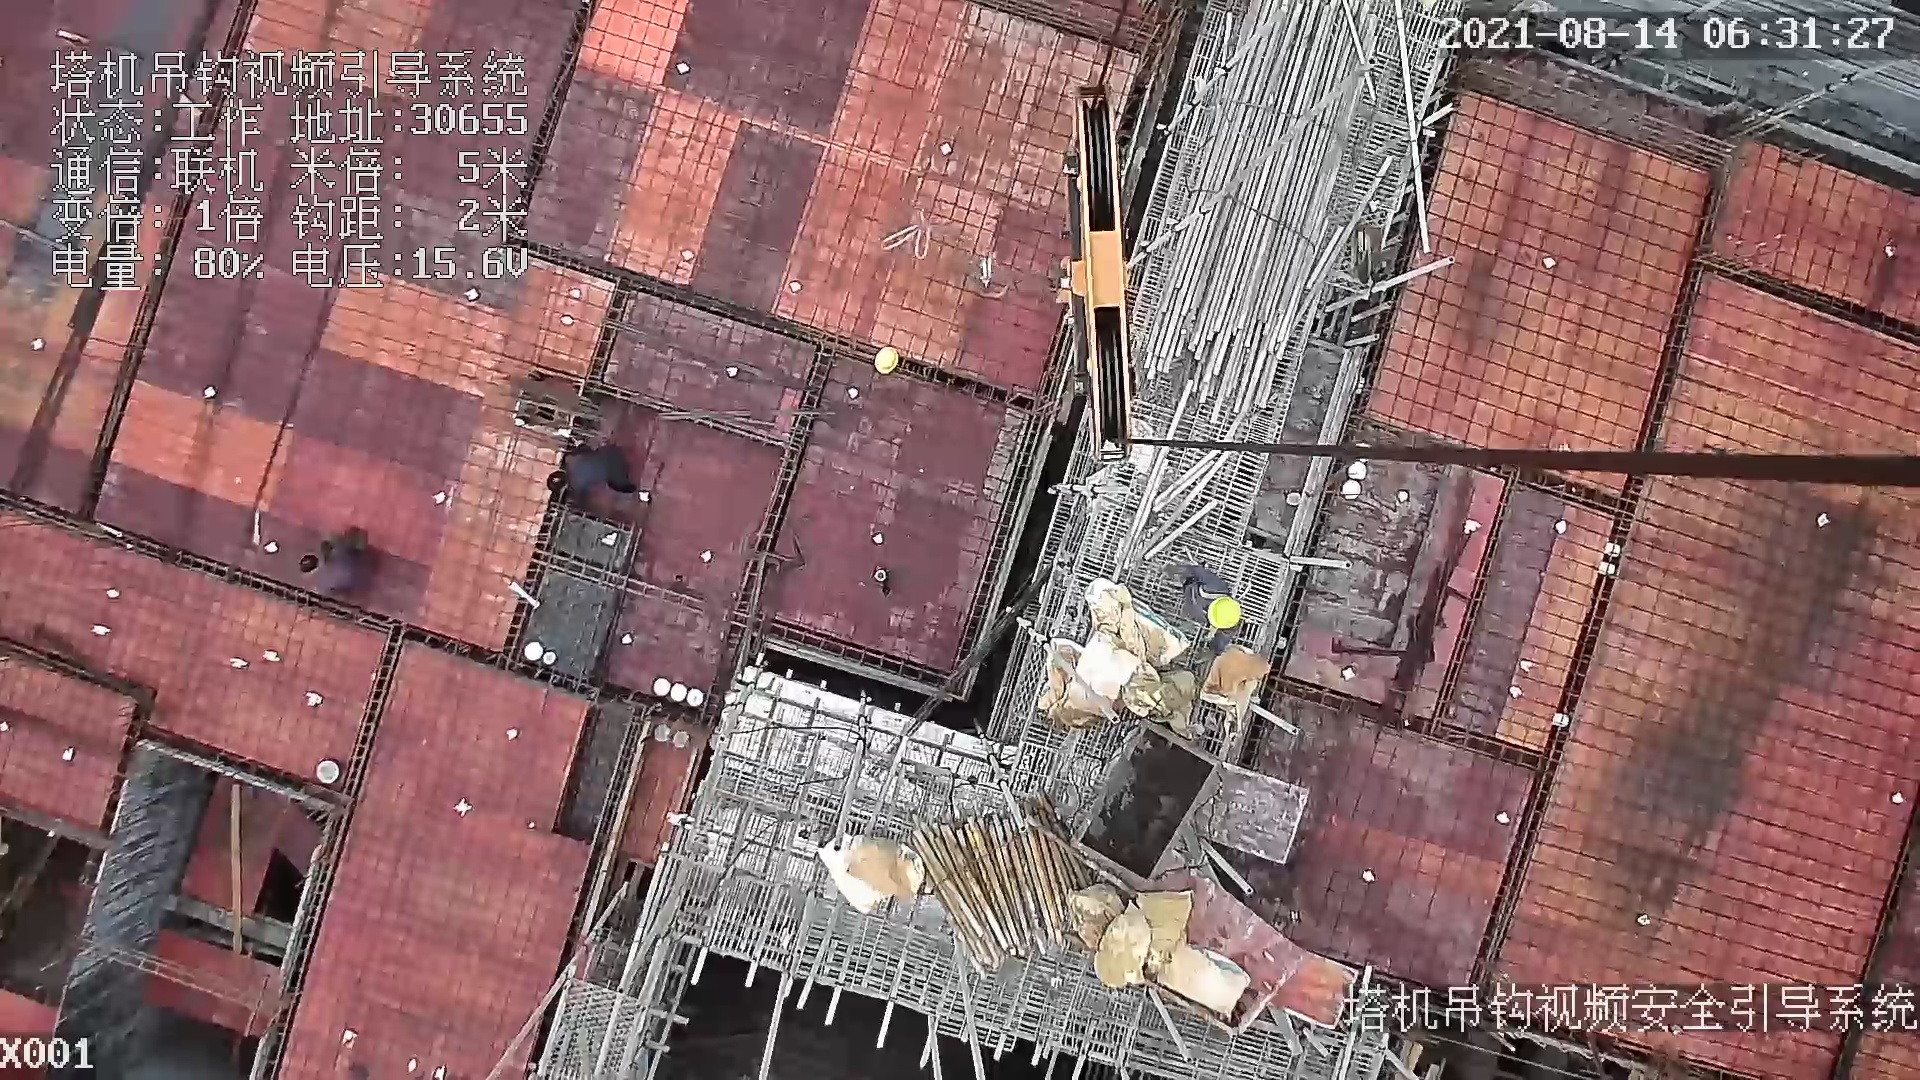helmet: (1206, 595, 1243, 635), (873, 345, 904, 374)
hook: (1051, 82, 1135, 455)
hopper: (1078, 736, 1229, 886)
person: (1162, 555, 1238, 655), (291, 534, 375, 605), (546, 447, 629, 501)
scaffold: (1140, 1, 1378, 430), (895, 797, 1078, 968)
